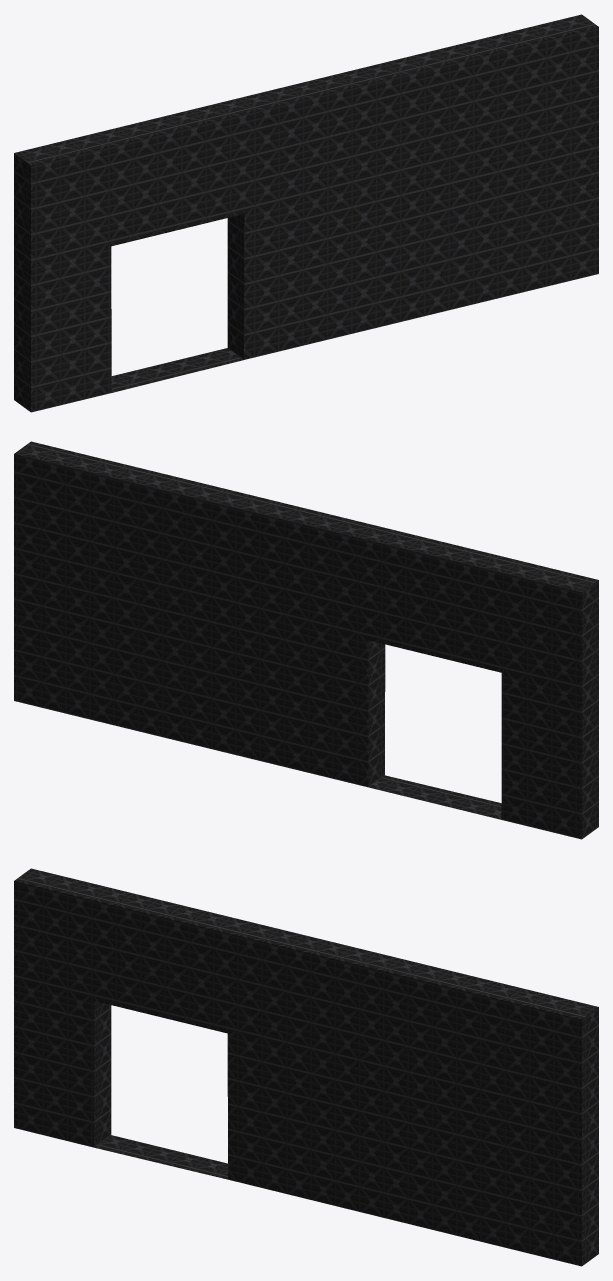
Rendered from doorTile.obj.
3 views of the same model, one above another, from view 1: azimuth 30°, elevation 25°; view 2: azimuth 150°, elevation 25°; view 3: azimuth 330°, elevation 25° (orthographic).
Visible parts, largest first — view 1: doorTile; view 2: doorTile; view 3: doorTile.
Part boxes in pixels (bbox=[...]): doorTile: bbox=[14, 14, 598, 412]; doorTile: bbox=[14, 441, 598, 839]; doorTile: bbox=[14, 868, 598, 1266].
Size of the model in its own units: 23.36 by 9.71 by 1.23.
